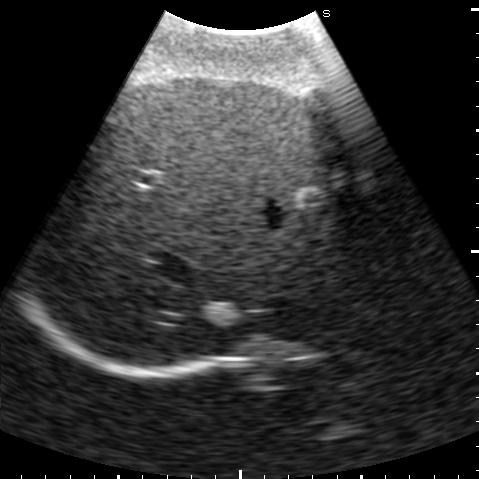S5: (118, 79, 339, 186)
S7: (33, 153, 148, 320)
S8: (83, 172, 370, 365)
Tumor: (204, 302, 239, 325), (292, 186, 327, 206)
